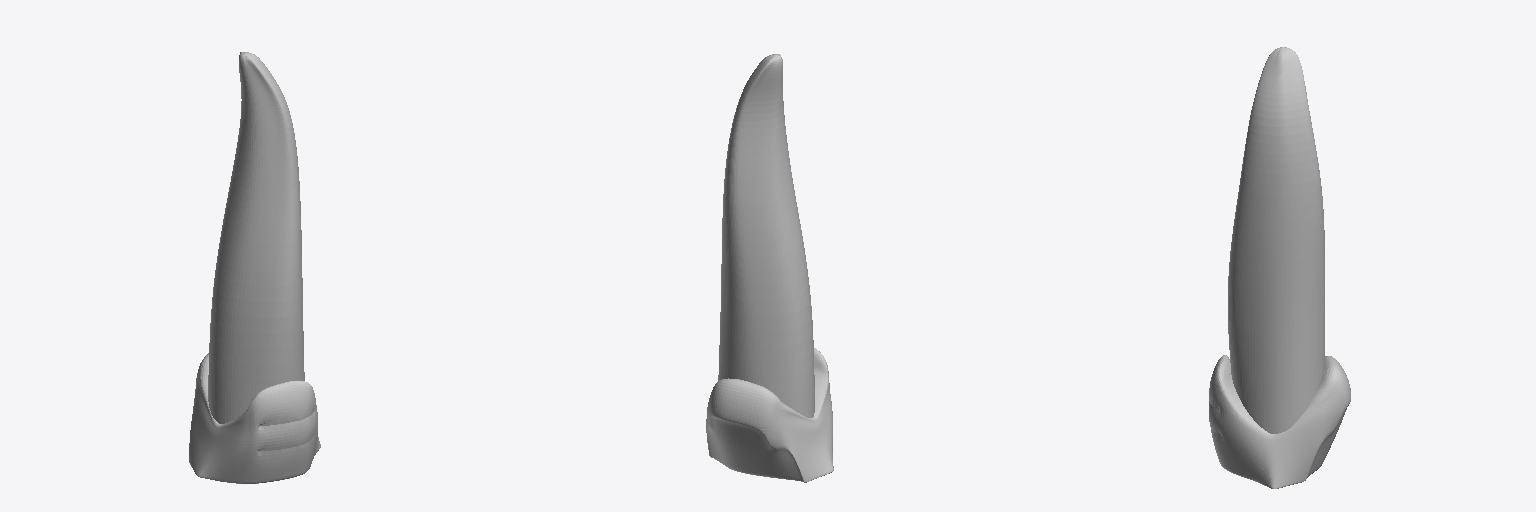
Rendered from Transversal.obj.
The picture shows the model from 3 angles: view 1: azimuth 30°, elevation 25°; view 2: azimuth 150°, elevation 25°; view 3: azimuth 270°, elevation 25°; orthographic projection.
Visible parts, largest first — view 1: Cylinder, Cylinder.001; view 2: Cylinder, Cylinder.001; view 3: Cylinder, Cylinder.001.
Part boxes in pixels (x1,y1,x2,y2): Cylinder: (208,52,304,423); Cylinder.001: (189,353,320,483); Cylinder: (718,54,814,417); Cylinder.001: (706,348,833,482); Cylinder: (1228,47,1324,433); Cylinder.001: (1209,355,1350,488).
Size of the model in its own units: 1.44 by 4.56 by 1.45.